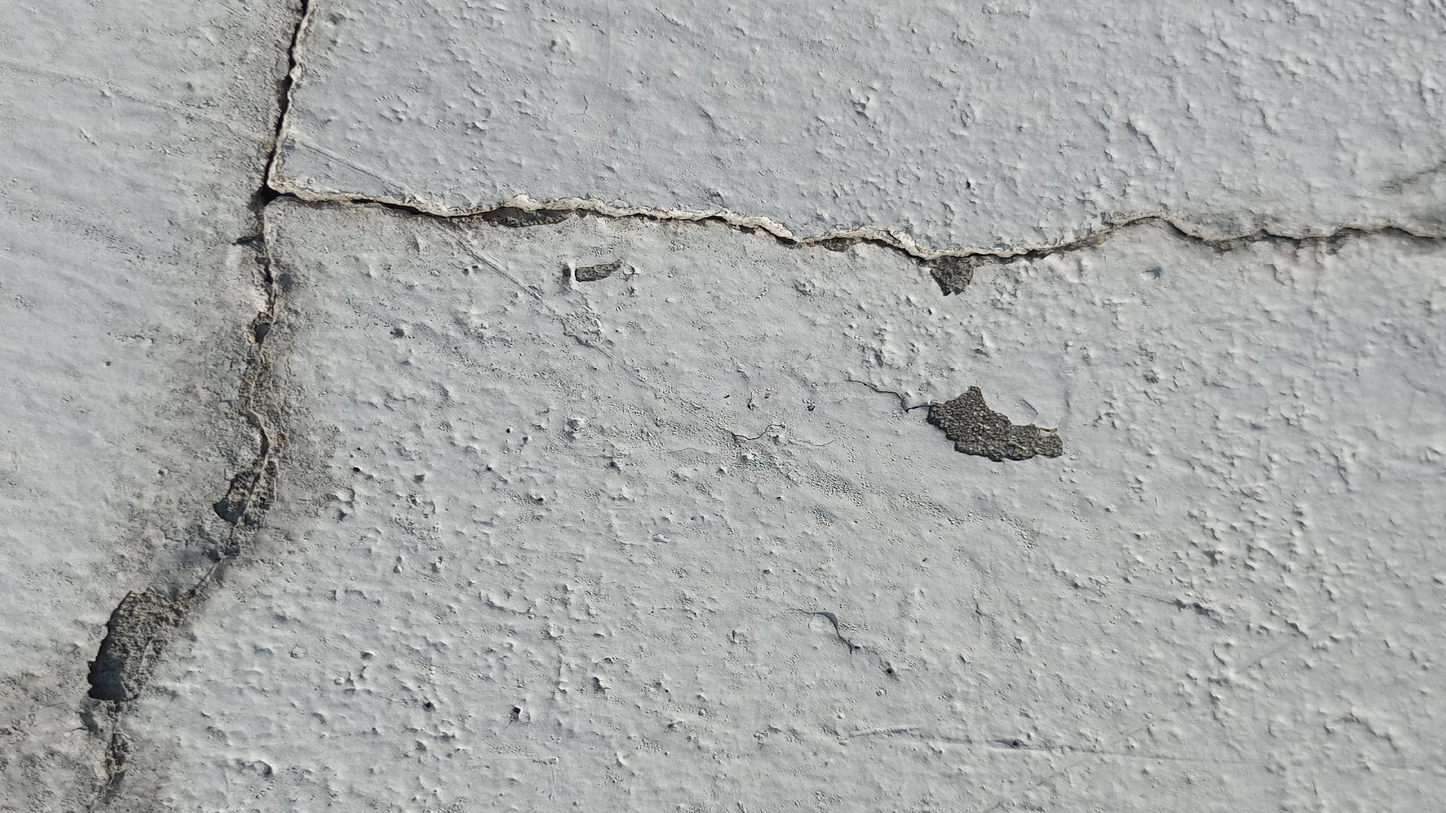crack: (102, 3, 1442, 806)
